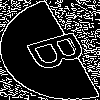B: (25, 25, 100, 73)
